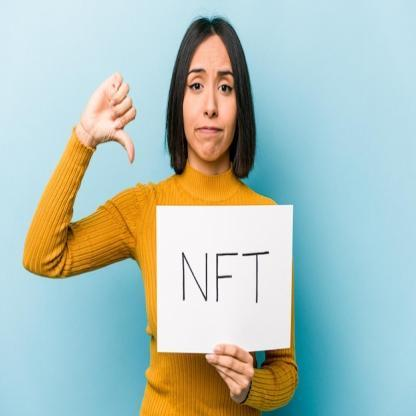thumb_down: (82, 68, 140, 166)
